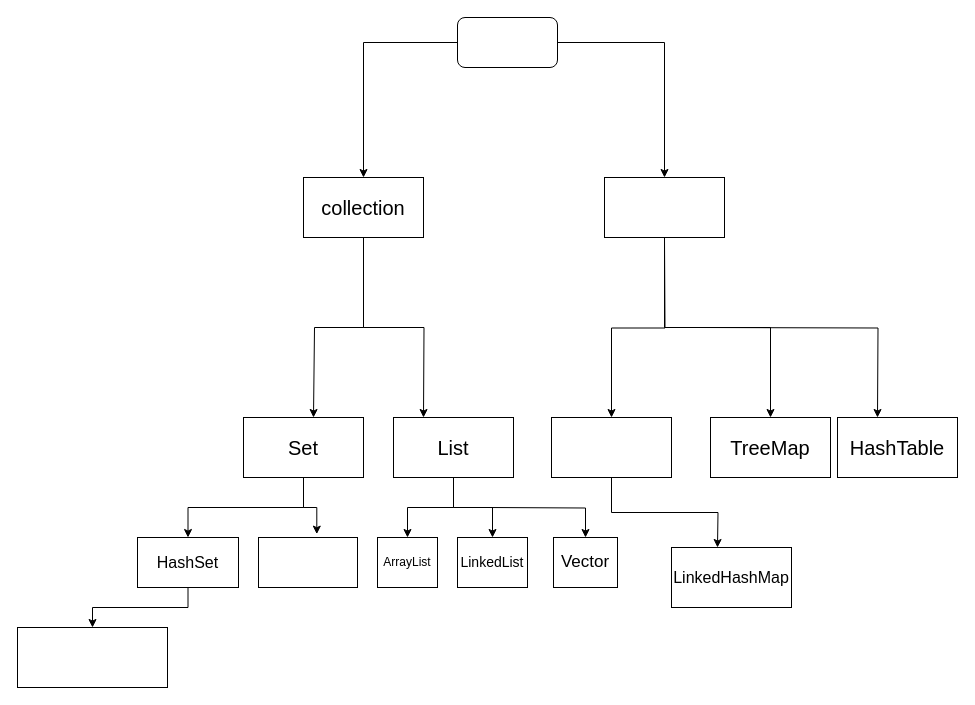
Some shapes in this 975 by 705 pixel diagram are drawn without their labels. Here are the shapes that lost their labels. From the top down, the box of each, then its label:
(456, 16, 558, 68): iterator
(604, 176, 724, 238): map
(550, 416, 672, 478): HashMap
(258, 536, 358, 588): TreeSet
(16, 626, 168, 688): LinkedHashSet
